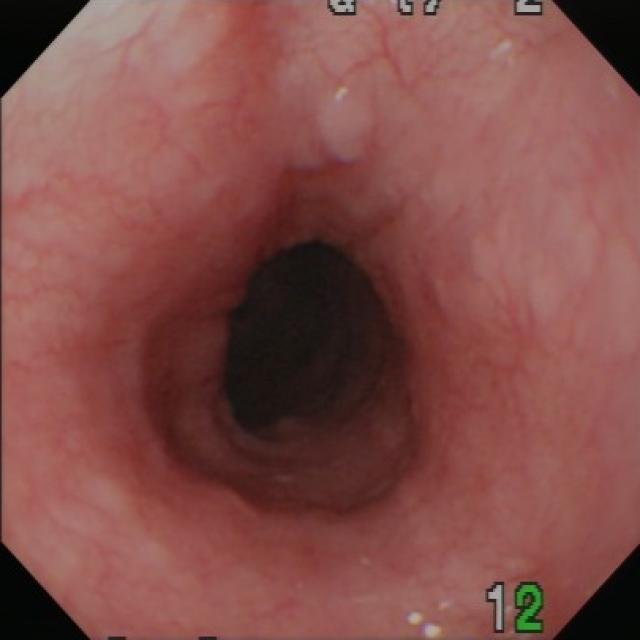E: (222, 238, 398, 444)
J: (489, 36, 515, 65)
S: (488, 583, 549, 638), (327, 3, 548, 18)
U: (407, 612, 442, 639)
